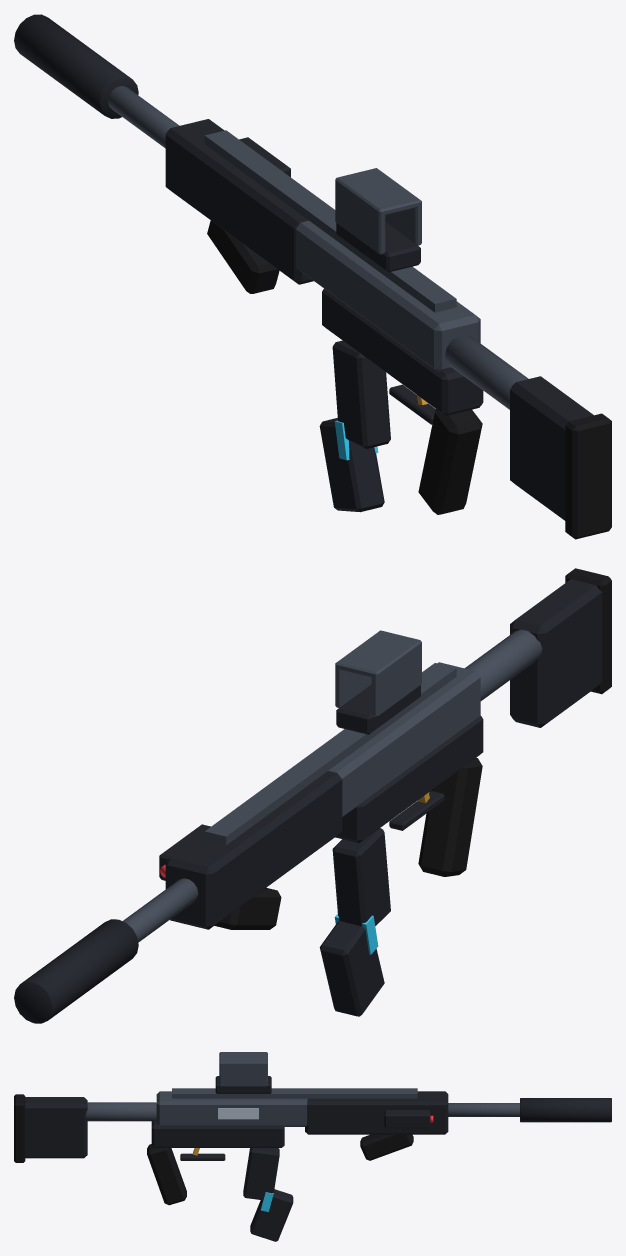
Rendered from gun_assault_rifle.obj.
3 views of the same model, one above another, from view 1: azimuth 30°, elevation 25°; view 2: azimuth 150°, elevation 25°; view 3: azimuth 270°, elevation 25° (orthographic). The views are drawn at different scales.
Visible parts, largest first — view 1: Handguard, Upper, Stock, Lower, TopRail, Suppressor, Butt, Grip, MagTop, MagBot, BufTube, HoloHoodT (+6 smaller); view 2: Handguard, Stock, Upper, Suppressor, TopRail, Lower, Grip, MagTop, MagBot, BufTube, HoloHoodT, Barrel (+6 smaller); view 3: Handguard, Upper, Stock, Lower, TopRail, Suppressor, MagTop, Grip, BufTube, MagBot, HoloHoodR, AngledGrip (+7 smaller).
Part boxes in pixels (<box>): Handguard: <box>165,119,313,284</box>; Upper: <box>296,221,480,372</box>; Stock: <box>510,376,593,520</box>; Lower: <box>322,288,483,415</box>; TopRail: <box>204,130,456,312</box>; Suppressor: <box>14,14,138,118</box>; Butt: <box>565,413,611,539</box>; Grip: <box>418,409,482,514</box>; MagTop: <box>332,340,390,448</box>; MagBot: <box>319,418,384,512</box>; BufTube: <box>445,334,528,409</box>; HoloHoodT: <box>335,168,421,215</box>; Handguard: <box>165,771,342,929</box>; Stock: <box>510,579,602,727</box>; Upper: <box>328,662,480,816</box>; Suppressor: <box>14,919,138,1023</box>; TopRail: <box>204,663,456,845</box>; Lower: <box>335,715,483,842</box>; Grip: <box>418,757,482,876</box>; MagTop: <box>332,828,390,926</box>; MagBot: <box>319,921,384,1016</box>; BufTube: <box>465,629,542,700</box>; HoloHoodT: <box>335,630,421,677</box>; Barrel: <box>123,878,198,942</box>; Handguard: <box>305,1091,448,1134</box>; Upper: <box>156,1091,307,1126</box>; Stock: <box>24,1097,87,1158</box>; Lower: <box>151,1121,284,1147</box>; TopRail: <box>172,1088,417,1098</box>; Suppressor: <box>520,1098,611,1122</box>; MagTop: <box>243,1148,279,1200</box>; Grip: <box>147,1144,186,1205</box>; BufTube: <box>85,1102,156,1121</box>; MagBot: <box>250,1189,293,1241</box>; HoloHoodR: <box>219,1065,267,1086</box>; AngledGrip: <box>360,1134,413,1160</box>.
Bounding box in the file's own units: 0.084 × 0.3922 × 1.17.
